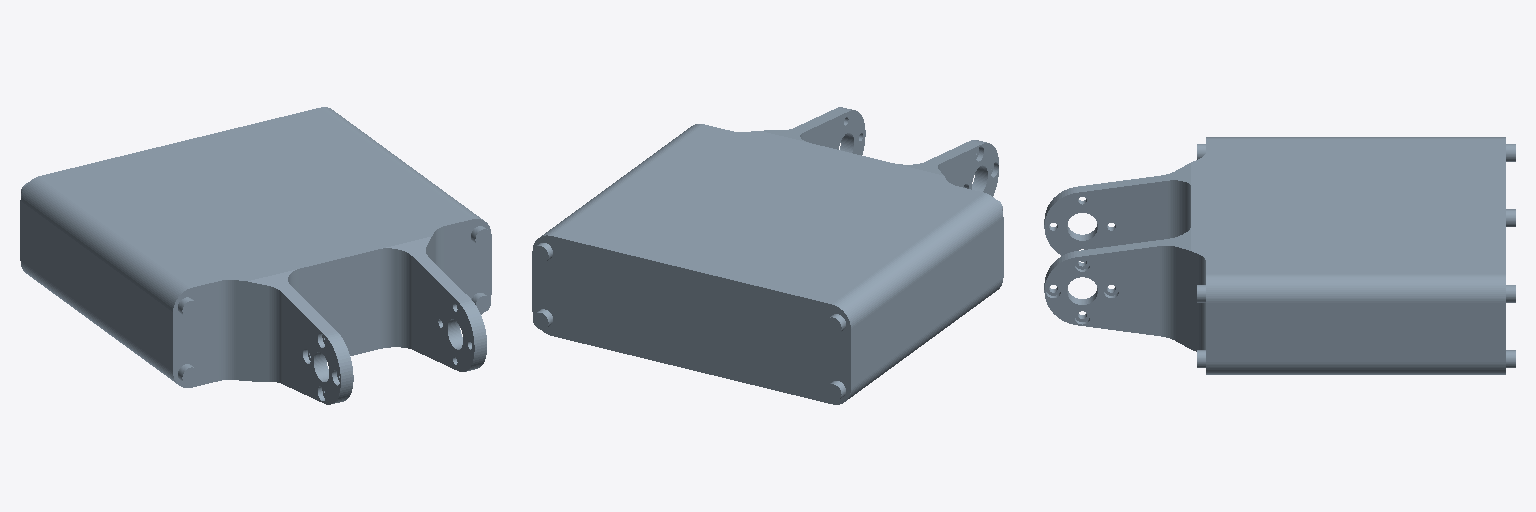
robot.urdf — sysID_2XL430:
<?xml version="1.0" ?><robot name="sysID_2XL430">  
  <link name="2xl430">    
    <visual>      
      <origin xyz="0 0 0" rpy="0 -0 0"/>      
      <geometry>        
        <mesh filename="package:///meshes/2xl430_visual.stl"/>        
      </geometry>      
      <material name="2xl430_material">        
        <color rgba="0.89659481946997099389 0.69622904450734179882 0.16511792881747547335 1.0"/>        
      </material>      
    </visual>    
    <collision>      
      <origin xyz="0 0 0" rpy="0 -0 0"/>      
      <geometry>        
        <mesh filename="package:///meshes/2xl430_collision.stl"/>        
      </geometry>      
    </collision>    
    <inertial>      
      <origin xyz="0.075316571195115589177 0.017588796249223766915 0.0056697414010457719558" rpy="0 0 0"/>      
      <mass value="0.11906239148352866508"/>      
      <inertia ixx="4.2349732073519816711e-05" ixy="-6.2882913433315499148e-06" ixz="-5.7431839129640897275e-07" iyy="4.2315110262053282737e-05" iyz="-1.3427815583044516969e-07" izz="5.5264194475968286314e-05"/>      
    </inertial>    
  </link>  

  <link name="arm_430">    
    <visual>      
      <origin xyz="0 0 0" rpy="0 -0 0"/>      
      <geometry>        
        <mesh filename="package:///meshes/arm_430_visual.stl"/>        
      </geometry>      
      <material name="arm_430_material">        
        <color rgba="0.604714181969083997 0.66722689075630248201 0.72422035480858992784 1.0"/>        
      </material>      
    </visual>    
    <collision>      
      <origin xyz="0 0 0" rpy="0 -0 0"/>      
      <geometry>        
        <mesh filename="package:///meshes/arm_430_collision.stl"/>        
      </geometry>      
    </collision>    
    <inertial>      
      <origin xyz="-0.070000487132979016813 -4.2557803529771614392e-17 -0.019000000000000061978" rpy="0 0 0"/>      
      <mass value="0.094500000000000014544"/>      
      <inertia ixx="9.7686465200451456426e-05" ixy="-9.7144091138227570137e-20" ixz="-1.5140713932170618561e-19" iyy="0.00017605681504883615796" iyz="1.4655776981955690938e-16" izz="9.7562052053041373504e-05"/>      
    </inertial>    
  </link>  

  <joint name="joint_0" type="revolute">    
    <origin xyz="0.096000000152447931279 0.032699858643998887253 0.0062193960984140176859" rpy="-1.5707963267948950037 2.9918979570903574849e-15 -1.5707963267948910069"/>    
    <parent link="2xl430"/>    
    <child link="arm_430"/>    
    <axis xyz="0 0 1"/>    
    <limit effort="1" velocity="20" lower="-1.570796326794896558" upper="1.570796326794896558"/>    
    <joint_properties friction="0.0"/>    
  </joint>  


</robot>

--- What the picture shows (computed from the rendered views, not written in the file) ---
The picture shows the robot from 3 angles, left to right: view 1: azimuth 30°, elevation 25°; view 2: azimuth 150°, elevation 25°; view 3: azimuth 270°, elevation 25°; orthographic projection.
Robot: sysID_2XL430 — 2 links, 1 joints (1 revolute); root link 2xl430; default pose: all joints at 0.
Links seen in each view (by area): view 1: arm_430; view 2: arm_430; view 3: arm_430.
Link boxes in pixels (box(x1,y1,x2,y2)): arm_430: box(20, 107, 491, 404); arm_430: box(532, 107, 1003, 404); arm_430: box(1044, 137, 1515, 374).
Size in the robot's own frame: 0.1 by 0.13 by 0.03 metres.
Meshes: 2 distinct files referenced, 1 mesh visuals loaded (1 binary STL); not drawn: 1 (reference not matched to a file when rendering).